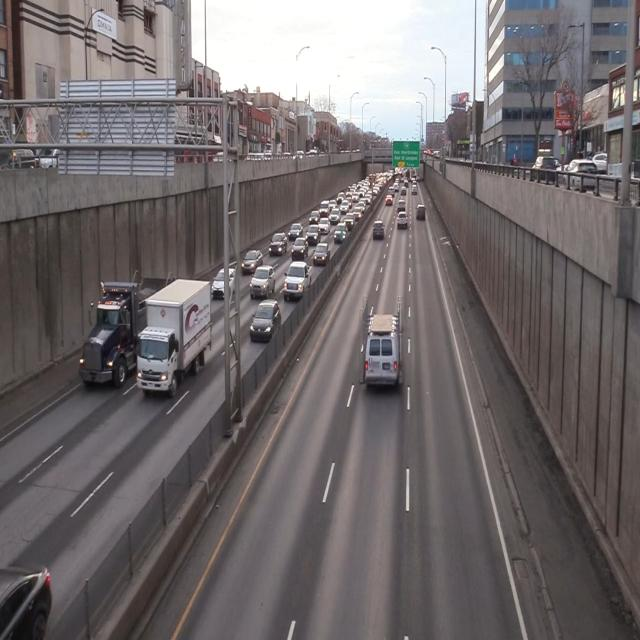Car: (136, 275, 212, 401), (78, 271, 156, 393), (362, 303, 404, 394), (248, 294, 284, 353), (210, 262, 239, 306), (282, 260, 313, 300), (251, 264, 277, 301)
